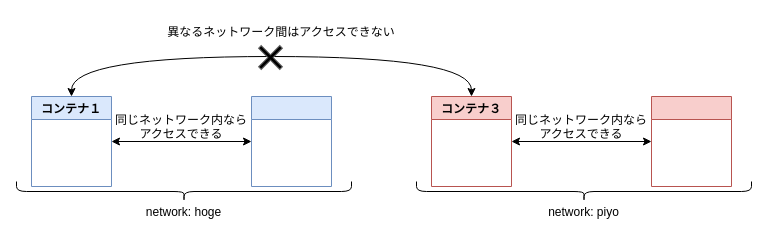
This 768x243 diagram has some shape labels left out. The shapes that lost their labels are listed below. From the top down, each one's centre as x and y in pixels, then its label:
the point at 291,141: コンテナ２
the point at 691,141: コンテナ４
